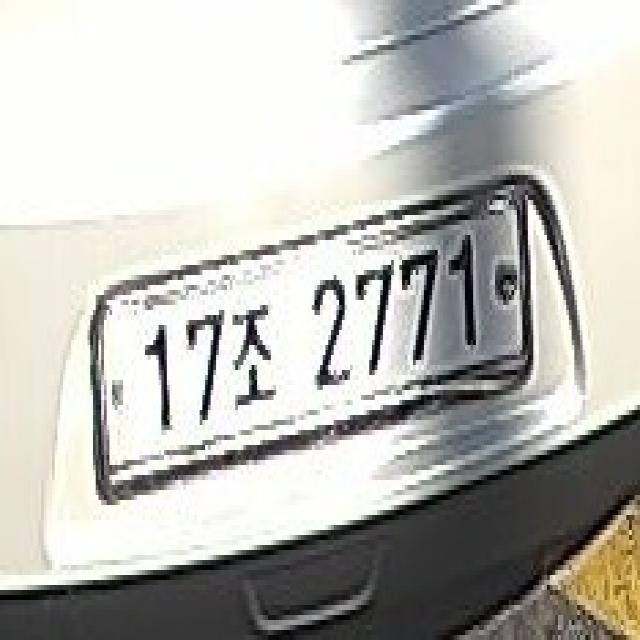1: (443, 220, 490, 370), (140, 305, 180, 455)
2: (306, 260, 353, 400)
7: (352, 250, 397, 395), (397, 240, 443, 380), (183, 295, 227, 440)
jo: (227, 285, 279, 425)
license_plate: (82, 160, 536, 510)
